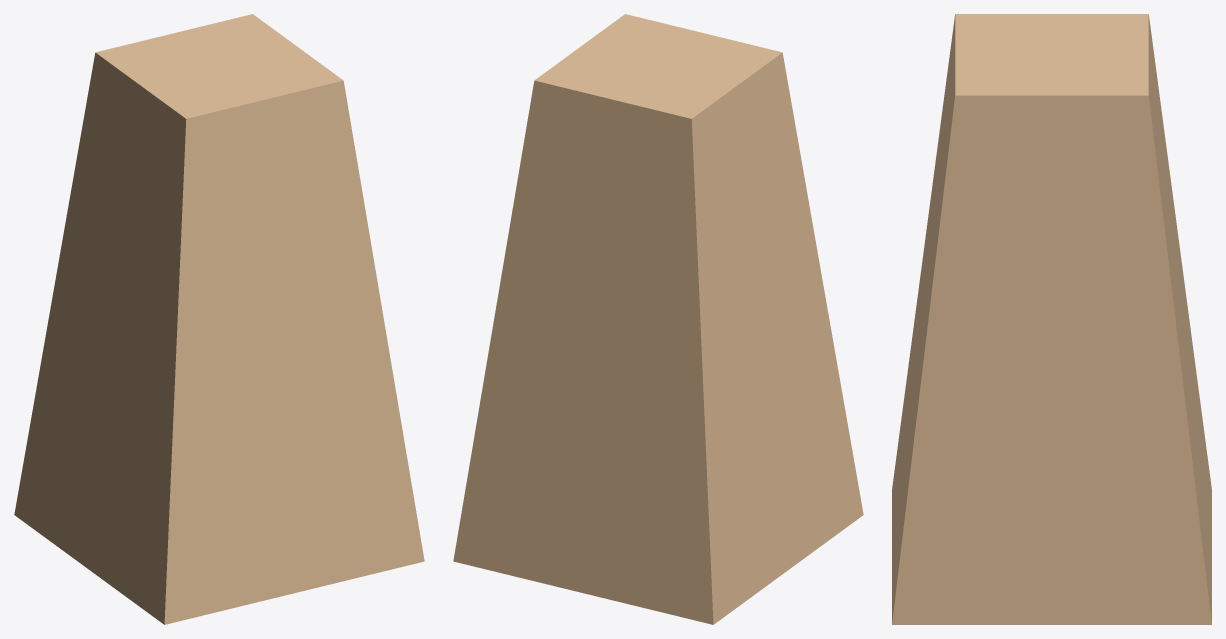
File: tower.fbx
3 renders of one model, left to right at view 1: azimuth 30°, elevation 25°; view 2: azimuth 150°, elevation 25°; view 3: azimuth 270°, elevation 25°, orthographic. The views are drawn at different scales.
Visible parts, largest first — view 1: Cube; view 2: Cube; view 3: Cube.
Boxes of the visible parts, x1,y1,x2,y2 form: Cube: (14,14,424,624); Cube: (453,14,863,624); Cube: (892,14,1211,624).
Size of the model in its own units: 260 by 451 by 260.
